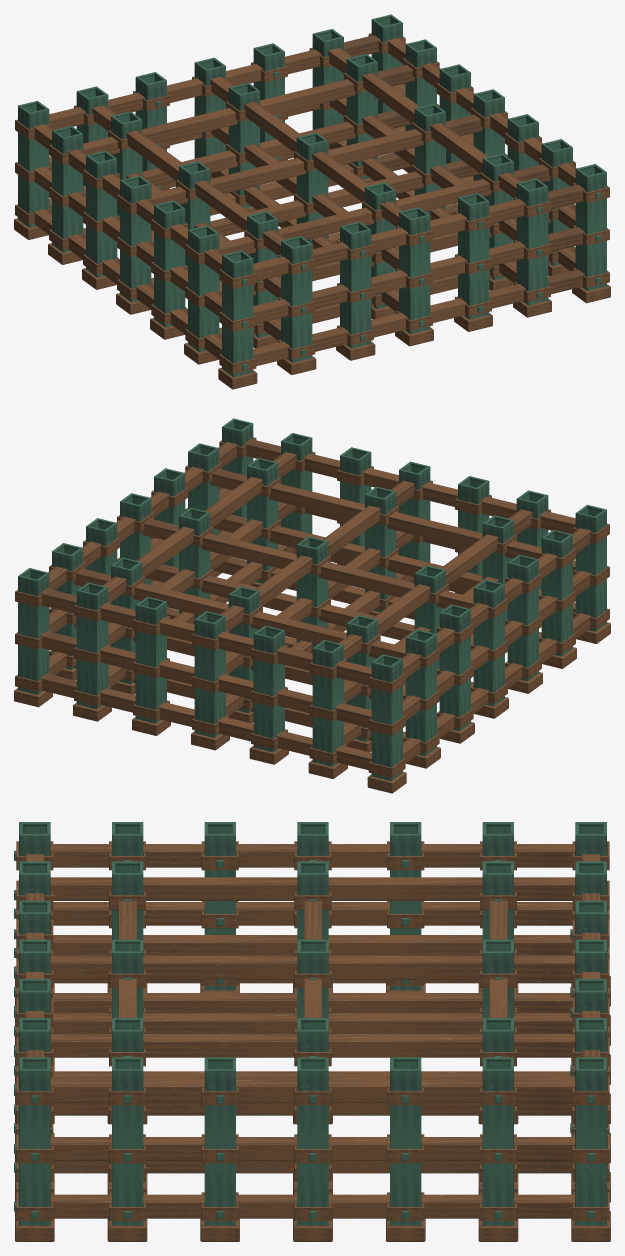
3 renders of one model, top to bottom at view 1: azimuth 30°, elevation 25°; view 2: azimuth 150°, elevation 25°; view 3: azimuth 270°, elevation 25°, orthographic. The views are drawn at different scales.
Parts seen in each view (by area): view 1: Tier 0 internal tie 0-0-0-0.84, Tier 0 internal tie 0-0.56-0-0.84, Tier 0 internal tie 0--0.56-0-0.84, Tier 0 tie 0-0-0.84, Tier 0 tie 0-0-0.16, Tier 0 tie 0-0-0.5, Tier 0 tie 2-0-0.84, Tier 0 internal tie 1-0-0-0.84, Tier 0 internal tie 1-0.56-0-0.84, Tier 0 internal tie 1--0.56-0-0.84, Tier 0 upright 0, Tier 0 upright 5 (+47 smaller); view 2: Tier 0 internal tie 0-0-0-0.84, Tier 0 internal tie 0--0.56-0-0.84, Tier 0 internal tie 0-0.56-0-0.84, Tier 0 tie 2-0-0.84, Tier 0 tie 2-0-0.16, Tier 0 tie 2-0-0.5, Tier 0 tie 0-0-0.84, Tier 0 internal tie 1-0-0-0.84, Tier 0 internal tie 1-0.56-0-0.84, Tier 0 internal tie 1--0.56-0-0.84, Tier 0 upright 18, Tier 0 upright 13 (+47 smaller); view 3: Tier 0 internal tie 1-0-0-0.84, Tier 0 internal tie 1--0.56-0-0.84, Tier 0 internal tie 1-0.56-0-0.84, Tier 0 internal tie 1-0-0-0.5, Tier 0 internal tie 1--0.56-0-0.5, Tier 0 internal tie 1--0.56-0-0.16, Tier 0 tie 1-0-0.16, Tier 0 tie 1-0-0.84, Tier 0 tie 1-0-0.5, Tier 0 tie 3-0-0.84, Tier 0 tie 3-0-0.5, Tier 0 internal tie 1-0.56-0-0.16 (+52 smaller).
Part boxes in pixels (left/top/right/bottom): Tier 0 internal tie 0-0-0-0.84: left=151, top=114, right=482, bottom=204; Tier 0 internal tie 0-0.56-0-0.84: left=83, top=65, right=414, bottom=154; Tier 0 internal tie 0--0.56-0-0.84: left=219, top=164, right=550, bottom=254; Tier 0 tie 0-0-0.84: left=253, top=184, right=584, bottom=281; Tier 0 tie 0-0-0.16: left=253, top=269, right=584, bottom=365; Tier 0 tie 0-0-0.5: left=253, top=227, right=584, bottom=323; Tier 0 tie 2-0-0.84: left=49, top=35, right=380, bottom=129; Tier 0 internal tie 1-0-0-0.84: left=210, top=76, right=404, bottom=226; Tier 0 internal tie 1-0.56-0-0.84: left=328, top=48, right=521, bottom=197; Tier 0 internal tie 1--0.56-0-0.84: left=92, top=105, right=286, bottom=255; Tier 0 upright 0: left=222, top=250, right=253, bottom=377; Tier 0 upright 5: left=516, top=178, right=548, bottom=305; Tier 0 internal tie 0-0-0-0.84: left=142, top=518, right=473, bottom=608; Tier 0 internal tie 0--0.56-0-0.84: left=210, top=469, right=541, bottom=558; Tier 0 internal tie 0-0.56-0-0.84: left=74, top=568, right=405, bottom=658; Tier 0 tie 2-0-0.84: left=40, top=588, right=371, bottom=685; Tier 0 tie 2-0-0.16: left=40, top=673, right=371, bottom=769; Tier 0 tie 2-0-0.5: left=40, top=631, right=371, bottom=727; Tier 0 tie 0-0-0.84: left=244, top=439, right=575, bottom=533; Tier 0 internal tie 1-0-0-0.84: left=220, top=480, right=414, bottom=630; Tier 0 internal tie 1-0.56-0-0.84: left=103, top=452, right=296, bottom=601; Tier 0 internal tie 1--0.56-0-0.84: left=338, top=509, right=532, bottom=659; Tier 0 upright 18: left=371, top=654, right=402, bottom=781; Tier 0 upright 13: left=76, top=582, right=108, bottom=709; Tier 0 internal tie 1-0-0-0.84: left=50, top=955, right=575, bottom=979; Tier 0 internal tie 1--0.56-0-0.84: left=50, top=877, right=575, bottom=900; Tier 0 internal tie 1-0.56-0-0.84: left=50, top=1034, right=575, bottom=1057; Tier 0 internal tie 1-0-0-0.5: left=50, top=1013, right=575, bottom=1033; Tier 0 internal tie 1--0.56-0-0.5: left=50, top=935, right=575, bottom=955; Tier 0 internal tie 1--0.56-0-0.16: left=53, top=993, right=572, bottom=1013; Tier 0 tie 1-0-0.16: left=50, top=1194, right=575, bottom=1218; Tier 0 tie 1-0-0.84: left=50, top=1079, right=575, bottom=1102; Tier 0 tie 1-0-0.5: left=50, top=1137, right=575, bottom=1160; Tier 0 tie 3-0-0.84: left=50, top=844, right=575, bottom=867; Tier 0 tie 3-0-0.5: left=50, top=902, right=575, bottom=925; Tier 0 internal tie 1-0.56-0-0.16: left=50, top=1160, right=575, bottom=1173.
Bounding box in the file's own units: 1.8 × 0.5669 × 1.8.
Materials: 2 (2 with a texture image).
